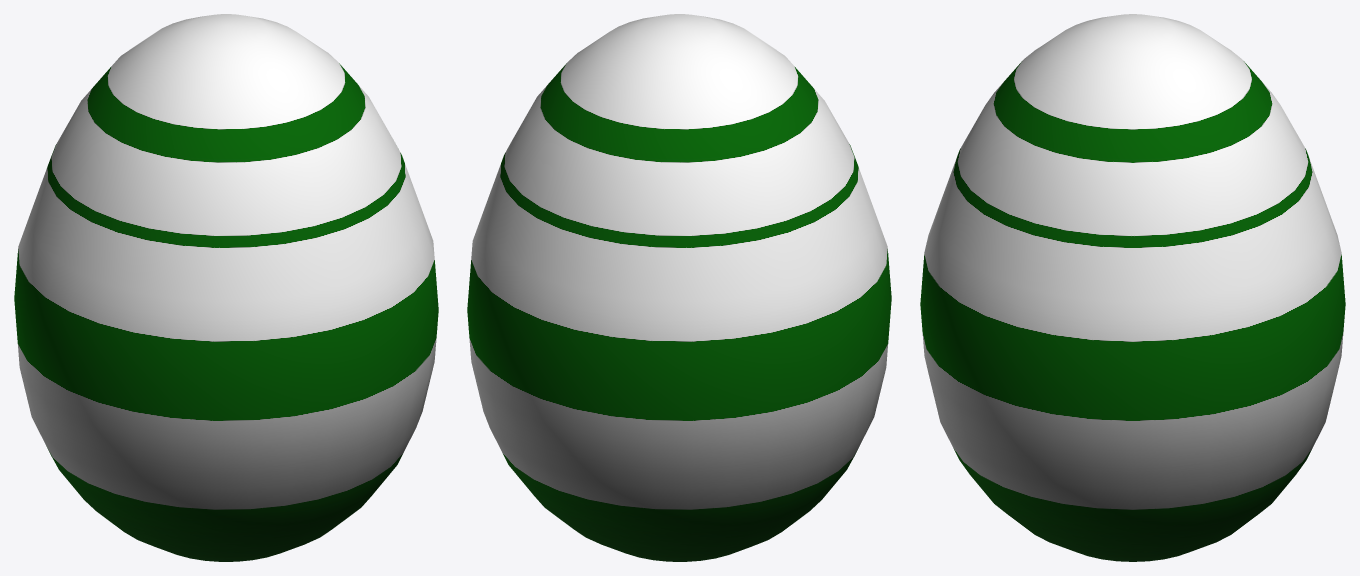
Rendered from egg05.glb.
3 views of the same model, side by side, from view 1: azimuth 30°, elevation 25°; view 2: azimuth 150°, elevation 25°; view 3: azimuth 270°, elevation 25° (orthographic).
Parts seen in each view (by area): view 1: Sphere001; view 2: Sphere001; view 3: Sphere001.
Boxes of the visible parts, x1=… form: Sphere001: x1=14, y1=14, x2=438, y2=561; Sphere001: x1=467, y1=14, x2=891, y2=561; Sphere001: x1=920, y1=14, x2=1345, y2=561.
Bounding box in the file's own units: 0.7237 × 0.9744 × 0.7237.
Materials: 1 (1 with a texture image).
